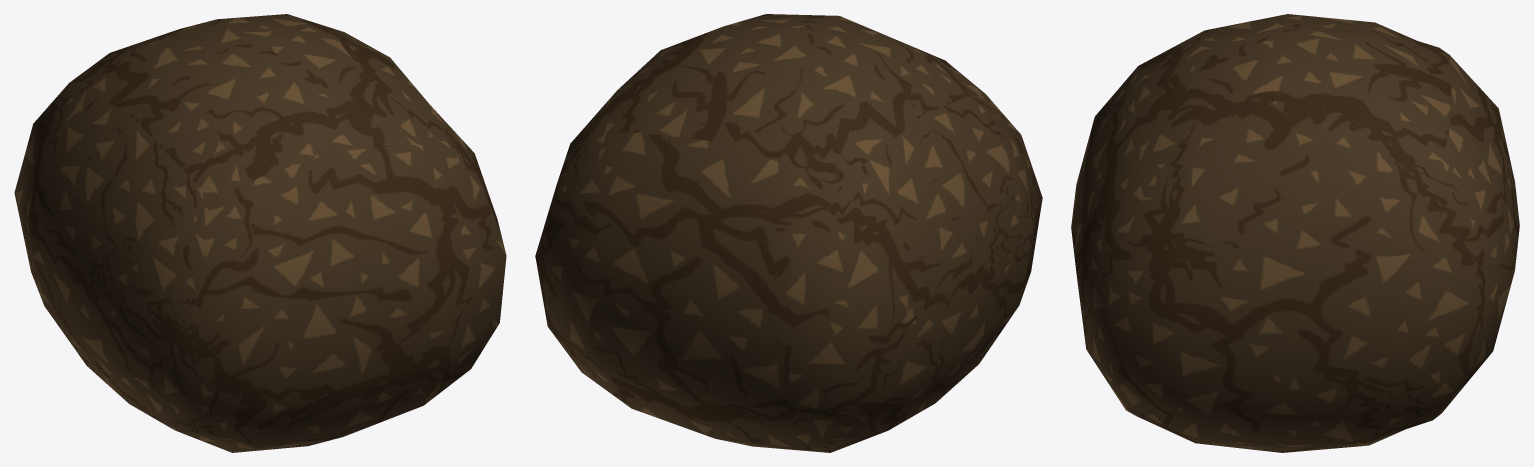
The model's file is Bolita.fbx.
3 views of the same model, side by side, from view 1: azimuth 30°, elevation 25°; view 2: azimuth 150°, elevation 25°; view 3: azimuth 270°, elevation 25° (orthographic). The views are drawn at different scales.
Visible parts, largest first — view 1: Cube; view 2: Cube; view 3: Cube.
Part boxes in pixels (x1,y1,x2,y2): Cube: (14,14,506,452); Cube: (535,14,1042,452); Cube: (1071,14,1519,452).
Size of the model in its own units: 1.84 by 1.82 by 1.9.
1 material, 1 textured.
